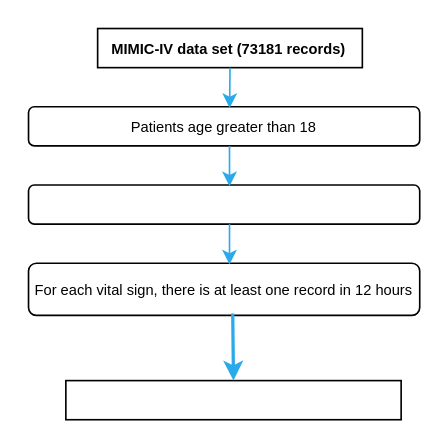
Image size: 448x448. Some labels were removed from this diagram. Each missing label, with the box of its shape:
Final included data ( 8034 records ): (64, 379, 401, 420)
Patients stayed in ICU for more than 24 hours: (27, 183, 420, 224)
